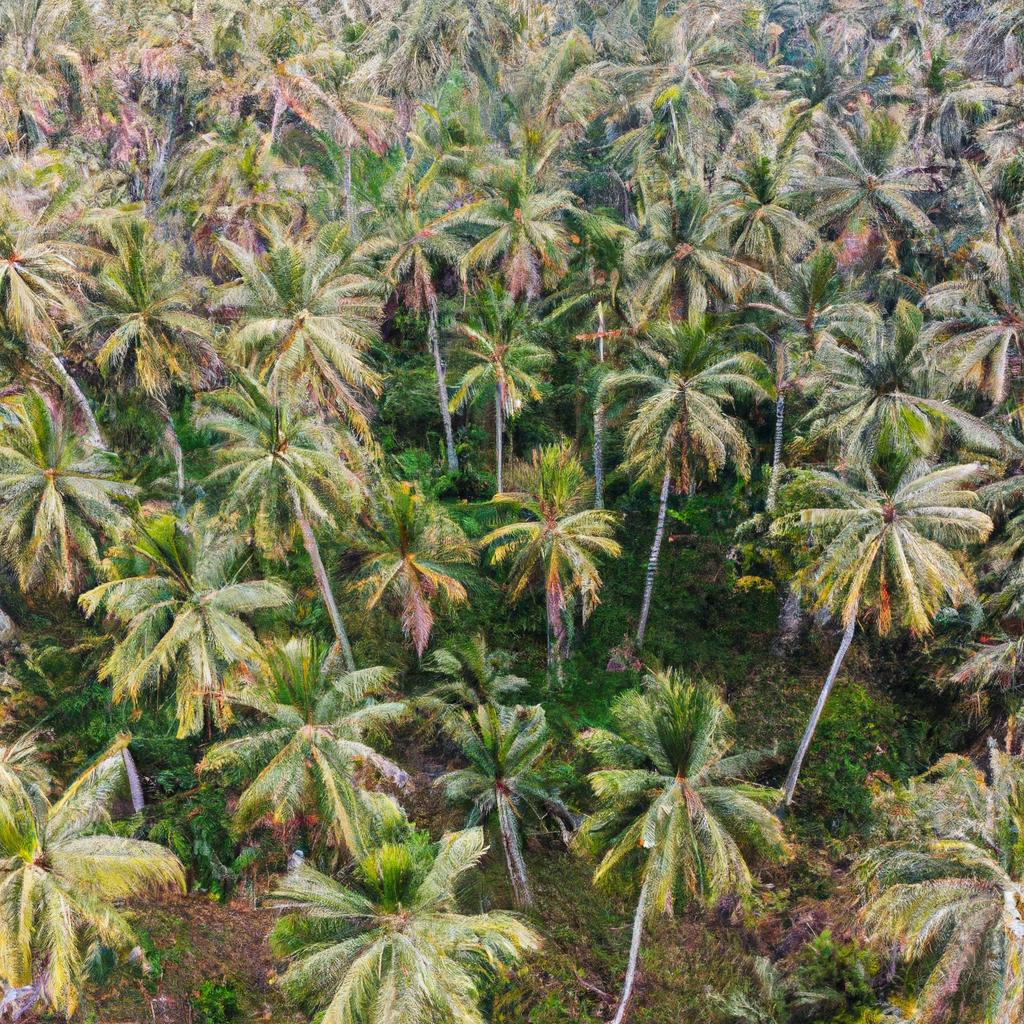coconut_tree: (592, 664, 817, 923), (254, 842, 555, 1023), (770, 442, 1017, 645), (206, 653, 425, 862), (89, 518, 303, 716), (600, 313, 780, 500), (474, 429, 633, 628), (212, 242, 390, 375)
